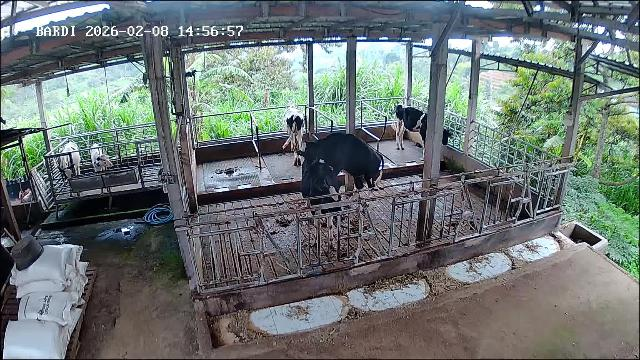mounting: (299, 130, 384, 218)
